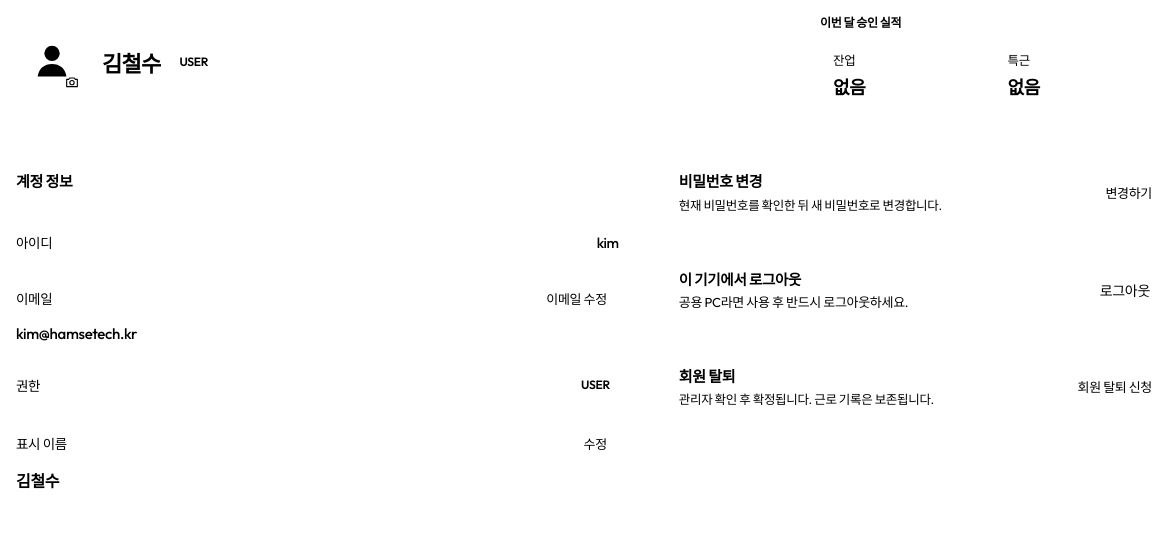
Test: ProfilePage — 표시 이름 › 저장에 실패하면 편집창을 그대로 두고 사유를 보인다
Expected: the text "김철수" in the row of "잔업" is shown, [102, 50, 160, 78]
Click the button "수정".
click(595, 443)  # box [572, 427, 619, 459]
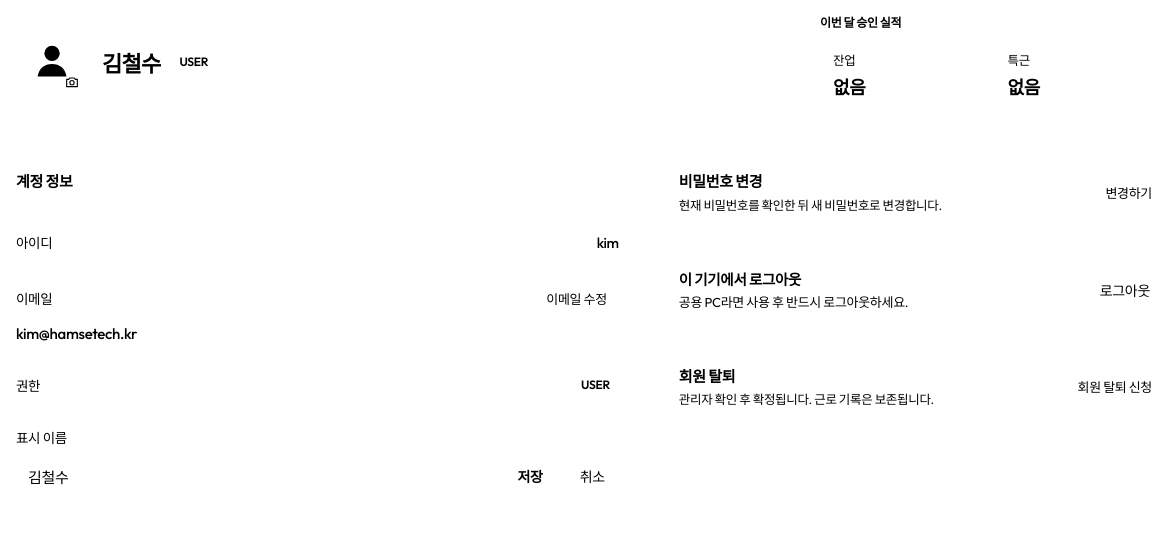
Replace the text in the field named "표시 이름" with "아주 긴 이름" at (255,476), box [16, 456, 494, 496]
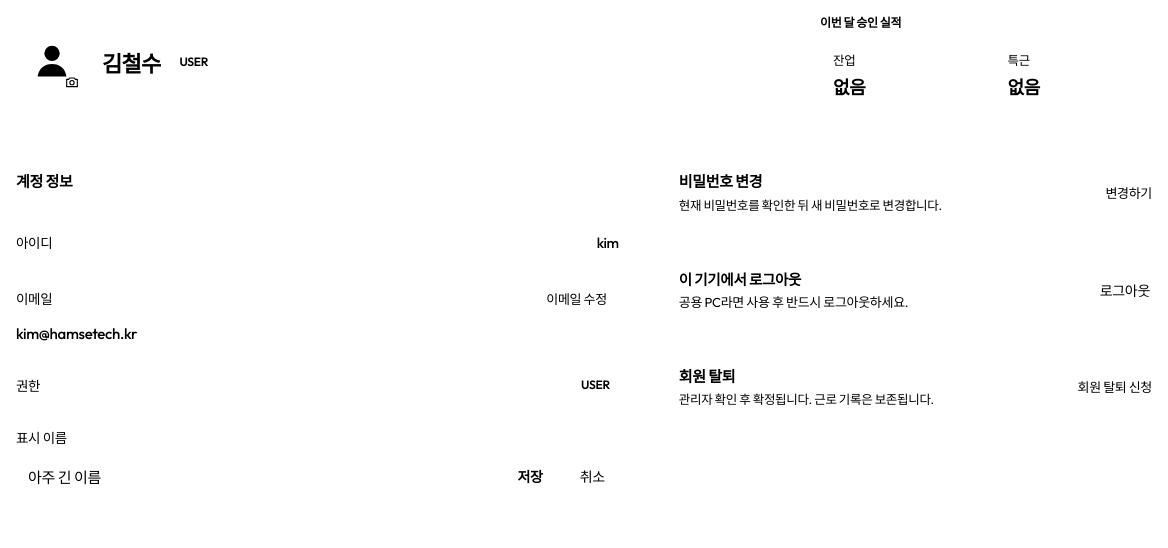
Click the button "저장".
click(530, 476)  # box [504, 456, 557, 496]
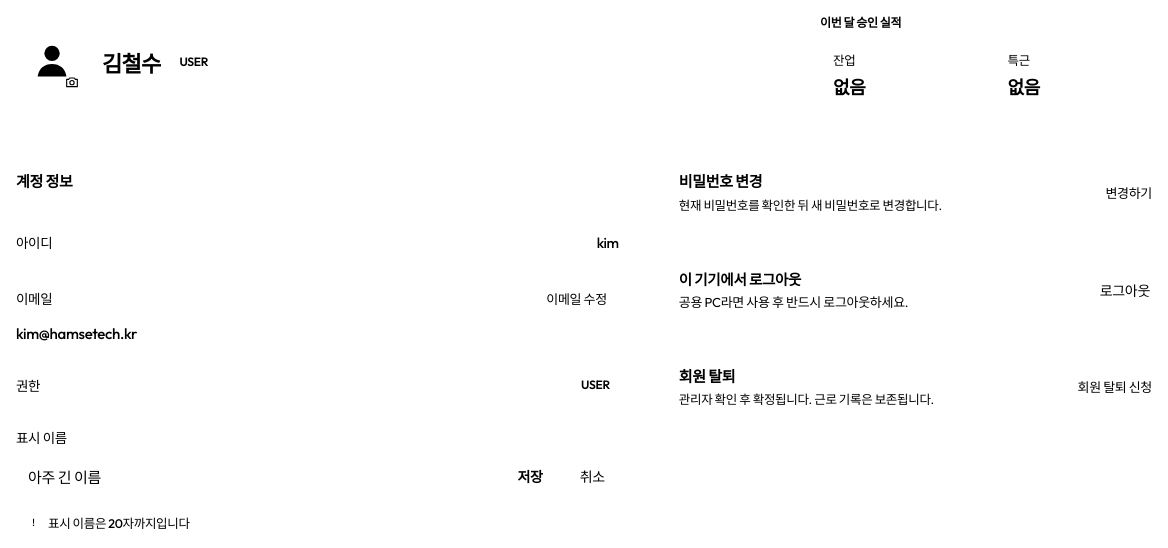
Expected: the text "표시 이름은 20자까지입니다" is shown, [48, 515, 190, 531]
